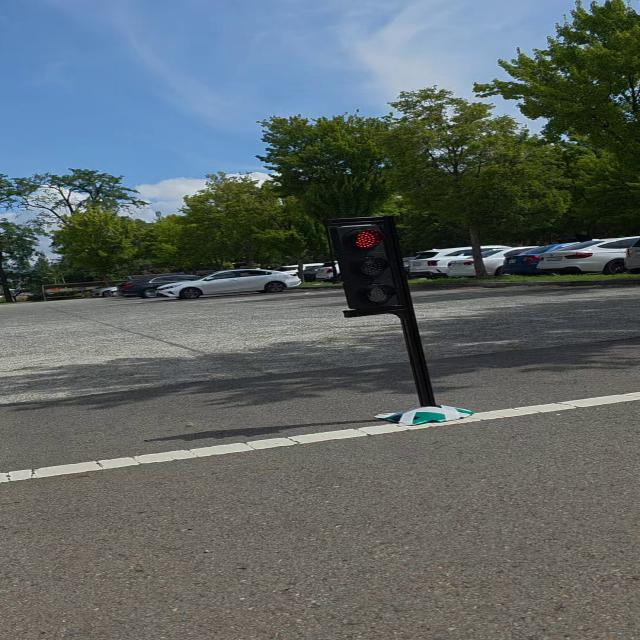red: (326, 221, 412, 312)
